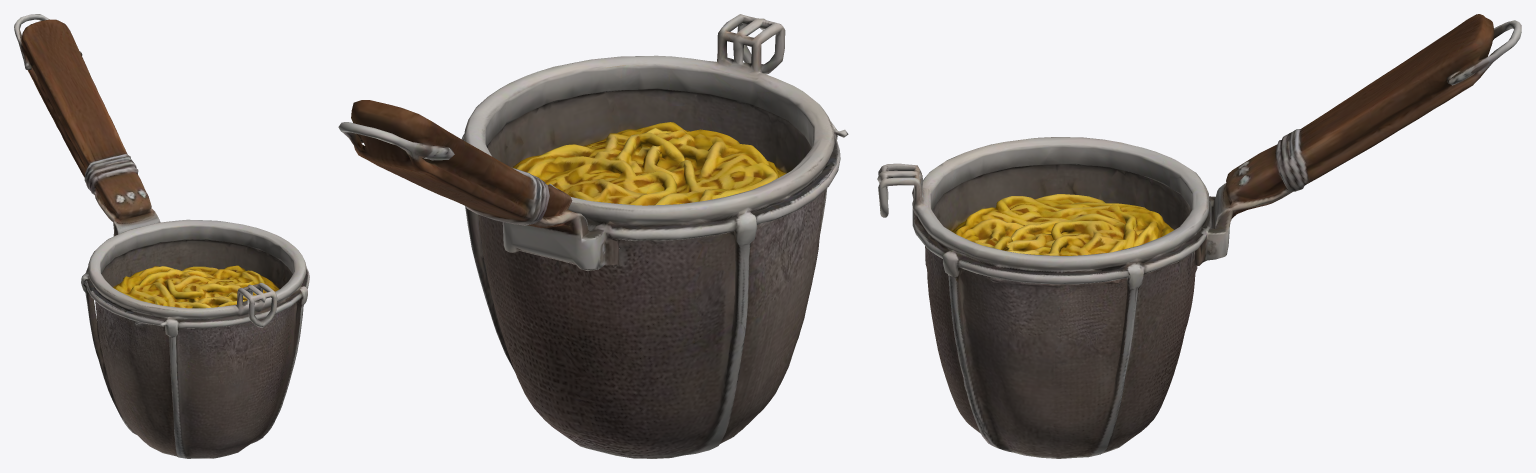
File: pol.glb
3 renders of one model, left to right at view 1: azimuth 30°, elevation 25°; view 2: azimuth 150°, elevation 25°; view 3: azimuth 270°, elevation 25°, orthographic. The views are drawn at different scales.
Visible parts, largest first — view 1: tripo_node_3e103b88-6d72-488e-b2d6-8be8a3c7bebf; view 2: tripo_node_3e103b88-6d72-488e-b2d6-8be8a3c7bebf; view 3: tripo_node_3e103b88-6d72-488e-b2d6-8be8a3c7bebf.
Part boxes in pixels (x1,y1,x2,y2): tripo_node_3e103b88-6d72-488e-b2d6-8be8a3c7bebf: (14, 14, 309, 458); tripo_node_3e103b88-6d72-488e-b2d6-8be8a3c7bebf: (338, 14, 848, 458); tripo_node_3e103b88-6d72-488e-b2d6-8be8a3c7bebf: (877, 14, 1521, 458).
Size of the model in its own units: 0.4761 by 0.6957 by 1.
Materials: 1 (1 with a texture image).
